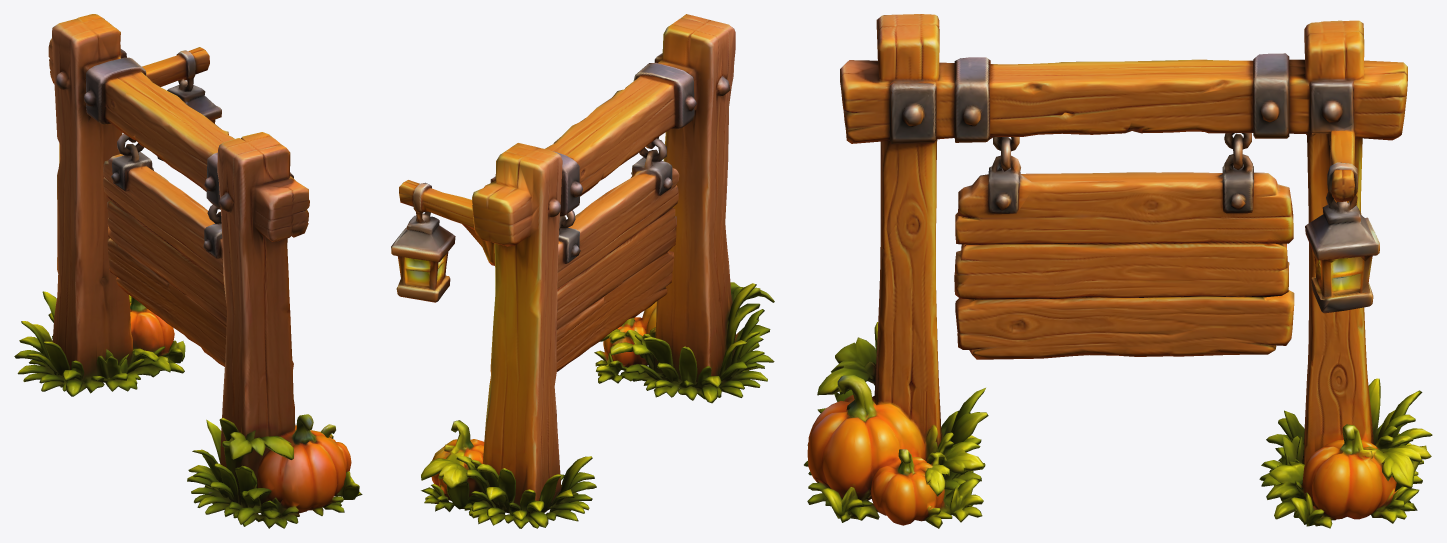
File: Kit_P_EntranceSign_HD_src.glb
3 renders of one model, left to right at view 1: azimuth 30°, elevation 25°; view 2: azimuth 150°, elevation 25°; view 3: azimuth 270°, elevation 25°, orthographic. The views are drawn at different scales.
Visible parts, largest first — view 1: tripo_node_d462df96-5d71-497a-88ef-e19fdd402578; view 2: tripo_node_d462df96-5d71-497a-88ef-e19fdd402578; view 3: tripo_node_d462df96-5d71-497a-88ef-e19fdd402578.
Boxes of the visible parts, box(x1,y1,x2,y2) form: tripo_node_d462df96-5d71-497a-88ef-e19fdd402578: box(14, 14, 362, 528); tripo_node_d462df96-5d71-497a-88ef-e19fdd402578: box(391, 14, 774, 528); tripo_node_d462df96-5d71-497a-88ef-e19fdd402578: box(804, 14, 1432, 528).
Size of the model in its own units: 0.4411 by 0.7774 by 0.9826.
1 material, 1 textured.
